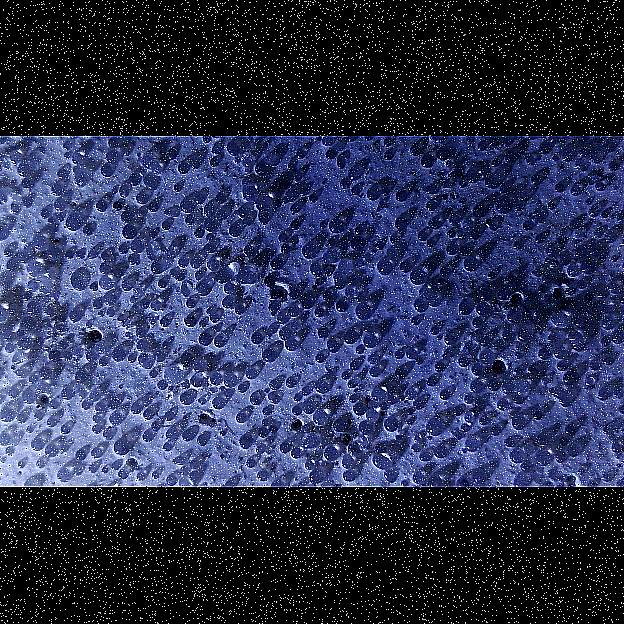GrassBeadSeg: (425, 419, 445, 436), (235, 269, 257, 284), (354, 303, 373, 320), (163, 367, 181, 384), (63, 215, 82, 231), (549, 313, 569, 328), (112, 439, 130, 455), (371, 455, 390, 470), (312, 409, 329, 425), (375, 260, 393, 275), (408, 270, 426, 285), (532, 451, 550, 466), (320, 249, 339, 263), (241, 185, 257, 201), (513, 380, 529, 396), (494, 199, 511, 214), (327, 220, 345, 234), (469, 469, 487, 483), (266, 185, 284, 199), (261, 348, 277, 363), (225, 140, 241, 155), (382, 418, 399, 432), (461, 258, 478, 272), (348, 237, 365, 251), (300, 245, 317, 259), (25, 301, 40, 316), (120, 225, 136, 239), (362, 334, 378, 348), (478, 351, 494, 365), (342, 330, 358, 344), (195, 282, 211, 296), (178, 200, 195, 213), (104, 151, 121, 164), (322, 446, 337, 460), (313, 380, 328, 394), (19, 316, 34, 330), (137, 354, 152, 368), (71, 277, 86, 291), (370, 387, 385, 401), (561, 372, 576, 386), (32, 236, 47, 250), (98, 276, 113, 290), (510, 416, 526, 429), (463, 438, 479, 451), (506, 310, 522, 323), (25, 263, 42, 275), (238, 435, 252, 449), (509, 450, 523, 464), (111, 348, 125, 362), (68, 308, 82, 322), (223, 374, 237, 388), (358, 421, 372, 435), (164, 428, 178, 442), (325, 340, 340, 353), (365, 188, 380, 201), (308, 470, 323, 483), (470, 363, 485, 376), (516, 329, 531, 342), (457, 302, 472, 315), (178, 393, 194, 405), (268, 259, 284, 271), (418, 156, 434, 168), (468, 381, 484, 393), (143, 178, 159, 190), (512, 475, 528, 487), (571, 317, 587, 329), (600, 317, 614, 330), (609, 331, 623, 344), (443, 333, 457, 346), (566, 264, 580, 277), (197, 334, 212, 346), (227, 225, 242, 237), (495, 288, 510, 300), (475, 304, 490, 316), (202, 220, 217, 232), (564, 445, 579, 457), (128, 242, 144, 253), (425, 476, 441, 487), (352, 403, 365, 416), (44, 445, 57, 458), (57, 469, 70, 482), (29, 439, 43, 451), (135, 193, 149, 205), (596, 389, 610, 401), (189, 376, 203, 388), (582, 377, 596, 389), (346, 168, 360, 180), (179, 354, 193, 366), (152, 350, 166, 362), (99, 165, 113, 177), (254, 163, 268, 175), (16, 165, 30, 177), (73, 174, 87, 186), (398, 262, 413, 273), (477, 289, 492, 300), (501, 275, 517, 285), (411, 471, 424, 483), (71, 152, 84, 164), (433, 447, 447, 458), (432, 362, 446, 373), (334, 301, 348, 312), (342, 471, 356, 482), (94, 201, 108, 212), (176, 163, 190, 174), (500, 330, 514, 341), (393, 218, 407, 229), (394, 191, 408, 202), (119, 212, 133, 223), (403, 389, 417, 400), (581, 263, 595, 274), (463, 172, 477, 183), (571, 248, 585, 259), (427, 219, 442, 229), (435, 151, 450, 161), (455, 477, 470, 487), (44, 249, 59, 259), (108, 413, 120, 425), (256, 426, 268, 438), (21, 392, 33, 404), (346, 444, 358, 456), (332, 420, 344, 432), (284, 376, 296, 388), (267, 301, 279, 313), (233, 303, 245, 315), (221, 297, 233, 309), (343, 286, 355, 298), (316, 328, 329, 339), (213, 337, 226, 348), (384, 471, 397, 482), (129, 403, 142, 414), (189, 258, 202, 269), (486, 220, 499, 231), (214, 272, 227, 283), (206, 259, 219, 270), (243, 244, 256, 255), (150, 263, 163, 274), (127, 174, 140, 185), (102, 293, 115, 304), (278, 328, 291, 339), (503, 438, 517, 448), (568, 186, 582, 196), (486, 381, 500, 391), (393, 369, 407, 379), (495, 400, 509, 410), (126, 256, 140, 266), (563, 425, 577, 435), (424, 201, 438, 211), (191, 194, 205, 204), (545, 258, 559, 268), (346, 276, 360, 286), (426, 295, 440, 305), (51, 185, 63, 196), (409, 145, 421, 156), (210, 145, 222, 156), (181, 429, 192, 441), (141, 431, 152, 443), (61, 388, 72, 400), (209, 374, 221, 385), (135, 340, 146, 352), (74, 371, 86, 382), (33, 383, 45, 394), (90, 447, 101, 459), (165, 474, 176, 486), (302, 437, 313, 449), (413, 433, 425, 444), (249, 393, 260, 405), (211, 398, 223, 409), (302, 402, 313, 414), (463, 411, 474, 423), (267, 379, 279, 390), (244, 367, 256, 378), (262, 276, 274, 287), (313, 307, 325, 318), (300, 298, 312, 309), (308, 264, 320, 275), (250, 332, 261, 344), (177, 256, 188, 268), (151, 163, 162, 175), (572, 340, 583, 352), (568, 331, 580, 342), (607, 282, 618, 294), (284, 339, 296, 350), (478, 335, 490, 346), (368, 367, 381, 377), (457, 357, 470, 367), (418, 452, 431, 462), (538, 144, 551, 154), (554, 453, 567, 463), (405, 349, 418, 359), (320, 291, 333, 301), (321, 136, 334, 146), (413, 300, 426, 310), (202, 244, 216, 253), (102, 429, 113, 440), (258, 214, 269, 225), (94, 402, 105, 413), (106, 398, 117, 409), (142, 409, 153, 420), (193, 361, 204, 372), (0, 411, 11, 422), (278, 443, 289, 454), (256, 470, 267, 481), (340, 457, 351, 468), (365, 410, 376, 421), (314, 352, 325, 363), (287, 306, 298, 317), (320, 265, 331, 276), (223, 283, 234, 294), (193, 227, 204, 238), (501, 383, 512, 394), (553, 347, 564, 358), (547, 443, 558, 454), (538, 348, 549, 359), (438, 390, 450, 400), (324, 150, 336, 160), (521, 221, 533, 231), (471, 318, 483, 328), (73, 450, 85, 460), (56, 170, 68, 180), (416, 232, 428, 242), (412, 399, 424, 409), (445, 245, 457, 255), (333, 279, 345, 289), (81, 226, 93, 236), (164, 249, 176, 259), (366, 353, 378, 363), (277, 232, 289, 242), (488, 426, 501, 435), (207, 158, 220, 167), (437, 267, 450, 276), (287, 291, 300, 300), (291, 449, 302, 459), (26, 281, 37, 291), (0, 434, 10, 445), (184, 317, 195, 327), (48, 351, 58, 362), (530, 175, 541, 185), (574, 161, 585, 171), (236, 384, 248, 393), (425, 377, 437, 386), (156, 381, 168, 390), (593, 183, 605, 192), (600, 473, 612, 482), (43, 307, 55, 316), (606, 163, 618, 172), (526, 365, 538, 374), (213, 195, 225, 204), (511, 396, 523, 405), (485, 180, 497, 189), (602, 425, 614, 434), (276, 316, 288, 325), (595, 291, 608, 299), (159, 317, 169, 327), (150, 301, 160, 311), (613, 214, 623, 224), (599, 338, 609, 348), (138, 299, 148, 309), (121, 281, 131, 291), (38, 369, 48, 379), (80, 400, 90, 410), (48, 400, 58, 410), (150, 421, 160, 431), (269, 394, 279, 404), (112, 268, 122, 278), (117, 244, 127, 254), (98, 264, 108, 274), (147, 202, 157, 212), (189, 159, 199, 169), (166, 150, 176, 160), (289, 220, 299, 230), (185, 299, 196, 308), (556, 362, 567, 371), (533, 234, 544, 243), (184, 216, 195, 225), (553, 184, 564, 193), (349, 361, 360, 370), (489, 158, 500, 167), (511, 241, 522, 250), (300, 387, 311, 396), (468, 231, 479, 240), (591, 230, 602, 239), (61, 142, 72, 151), (459, 247, 470, 256), (280, 245, 291, 254), (20, 179, 31, 188), (461, 220, 472, 229), (447, 216, 458, 225), (53, 202, 64, 211), (111, 202, 123, 210), (535, 286, 547, 294), (545, 247, 557, 255), (355, 455, 365, 464), (133, 288, 143, 297), (85, 352, 95, 361), (88, 392, 98, 401), (60, 425, 69, 435), (91, 424, 100, 434), (87, 464, 97, 473), (117, 470, 126, 480), (91, 414, 100, 424), (163, 412, 173, 421), (261, 406, 270, 416), (235, 413, 244, 423), (4, 344, 14, 353), (105, 308, 115, 317), (92, 300, 102, 309), (386, 396, 397, 404), (530, 269, 541, 277), (381, 139, 392, 147), (516, 194, 527, 202), (440, 180, 451, 188), (462, 395, 473, 403), (425, 186, 436, 194), (17, 341, 26, 350), (291, 407, 301, 415), (486, 272, 496, 280), (588, 209, 598, 217), (602, 357, 612, 365), (338, 181, 348, 189), (295, 150, 305, 158), (383, 152, 393, 160), (374, 444, 384, 452), (201, 136, 212, 143), (600, 210, 609, 218), (127, 354, 135, 363), (345, 136, 357, 142), (3, 249, 12, 257), (298, 188, 307, 196), (513, 352, 523, 359), (196, 398, 206, 405), (425, 239, 435, 246), (212, 325, 220, 333), (205, 307, 213, 315), (157, 280, 165, 288), (161, 341, 169, 349), (135, 330, 143, 338), (98, 358, 106, 366), (59, 341, 67, 349), (61, 353, 69, 361), (8, 390, 16, 398), (33, 412, 41, 420), (46, 419, 54, 427), (197, 438, 205, 446), (255, 446, 263, 454), (72, 467, 80, 475), (189, 461, 197, 469), (260, 418, 268, 426), (405, 408, 413, 416), (348, 395, 356, 403), (347, 380, 355, 388), (340, 372, 348, 380), (451, 407, 459, 415), (460, 424, 468, 432), (478, 417, 486, 425), (414, 357, 422, 365), (355, 346, 363, 354), (292, 394, 300, 402), (314, 278, 322, 286), (216, 212, 224, 220), (161, 222, 169, 230), (40, 210, 48, 218), (75, 251, 83, 259), (22, 292, 30, 300), (173, 184, 181, 192), (242, 218, 250, 226), (280, 196, 288, 204), (308, 195, 316, 203), (336, 161, 344, 169), (351, 187, 359, 195), (381, 188, 389, 196), (394, 351, 402, 359), (430, 327, 438, 335), (512, 367, 520, 375), (540, 376, 548, 384), (560, 399, 568, 407), (546, 335, 554, 343), (520, 463, 528, 471), (610, 444, 618, 452), (613, 390, 621, 398), (589, 362, 597, 370), (604, 235, 612, 243), (588, 247, 596, 255), (326, 239, 334, 247), (354, 227, 362, 235), (290, 205, 298, 213), (168, 269, 176, 277), (446, 230, 454, 238), (238, 210, 246, 218), (162, 443, 170, 451), (375, 242, 383, 250), (389, 236, 397, 244), (318, 222, 326, 230), (15, 370, 24, 377), (198, 320, 206, 327), (209, 315, 217, 322), (148, 371, 156, 378), (28, 376, 36, 383), (16, 416, 24, 423), (59, 444, 66, 452), (136, 473, 143, 481), (150, 471, 157, 479), (180, 382, 188, 389), (36, 461, 44, 468), (4, 448, 12, 455), (16, 461, 24, 468), (179, 468, 187, 475), (246, 460, 254, 467), (302, 426, 310, 433), (268, 426, 276, 433), (304, 462, 312, 469), (453, 433, 461, 440), (411, 444, 419, 451), (205, 234, 213, 241), (148, 231, 156, 238), (162, 209, 170, 216), (119, 190, 127, 197), (135, 210, 143, 217), (64, 251, 72, 258), (6, 264, 14, 271), (20, 256, 28, 263), (514, 204, 522, 211), (457, 233, 465, 240), (436, 277, 444, 284), (410, 318, 418, 325), (553, 391, 561, 398), (536, 437, 544, 444), (564, 288, 572, 295), (363, 325, 371, 332), (174, 273, 182, 280), (501, 140, 509, 147), (491, 193, 499, 200), (457, 181, 465, 188), (476, 167, 484, 174), (526, 157, 533, 165), (562, 153, 569, 161), (578, 149, 585, 157), (588, 154, 595, 162), (532, 412, 540, 419), (545, 203, 554, 209), (583, 200, 592, 206), (100, 467, 107, 474), (85, 321, 92, 328), (97, 310, 104, 317), (25, 426, 32, 433), (111, 463, 118, 470), (176, 458, 183, 465), (400, 480, 407, 487), (110, 187, 117, 194), (124, 331, 131, 338), (89, 284, 96, 291), (498, 187, 505, 194), (568, 221, 575, 228), (487, 139, 494, 146), (477, 144, 484, 151), (504, 155, 511, 162), (22, 201, 29, 208), (609, 256, 617, 262), (47, 289, 53, 296), (39, 287, 45, 294), (3, 335, 10, 341), (234, 157, 240, 164), (242, 161, 249, 167), (122, 149, 128, 155), (47, 218, 53, 224), (56, 216, 62, 222), (12, 209, 18, 215), (1, 197, 7, 203), (3, 164, 9, 170), (11, 158, 17, 164), (63, 153, 69, 159), (86, 253, 92, 259), (108, 256, 114, 262), (101, 255, 107, 261), (51, 294, 57, 300), (9, 308, 15, 314), (10, 364, 16, 370), (244, 168, 250, 174), (249, 150, 255, 156), (0, 457, 5, 463), (265, 450, 269, 455), (357, 440, 361, 445), (577, 470, 581, 475), (542, 278, 546, 283), (346, 228, 350, 233), (445, 162, 449, 167), (232, 210, 236, 215), (551, 157, 555, 162), (355, 297, 359, 302), (117, 385, 121, 389), (149, 395, 153, 399), (143, 403, 147, 407), (167, 387, 171, 391), (219, 455, 223, 459), (237, 457, 241, 461), (205, 455, 209, 459), (290, 440, 294, 444), (360, 443, 364, 447), (460, 449, 464, 453), (474, 402, 478, 406), (352, 389, 356, 393), (356, 388, 360, 392), (263, 389, 267, 393), (311, 285, 315, 289), (265, 332, 269, 336), (73, 358, 77, 362), (78, 394, 82, 398), (294, 177, 298, 181), (287, 165, 291, 169), (436, 336, 440, 340), (515, 345, 519, 349), (547, 471, 551, 475), (556, 477, 560, 481), (547, 389, 551, 393), (130, 299, 134, 303), (150, 320, 154, 324), (183, 293, 187, 297), (242, 144, 246, 148), (259, 203, 263, 207), (260, 208, 264, 212), (358, 194, 362, 198), (362, 368, 365, 373), (182, 417, 186, 420), (218, 387, 222, 390), (448, 375, 451, 379), (319, 445, 322, 449), (98, 349, 101, 353), (172, 460, 175, 463), (220, 432, 223, 435)
